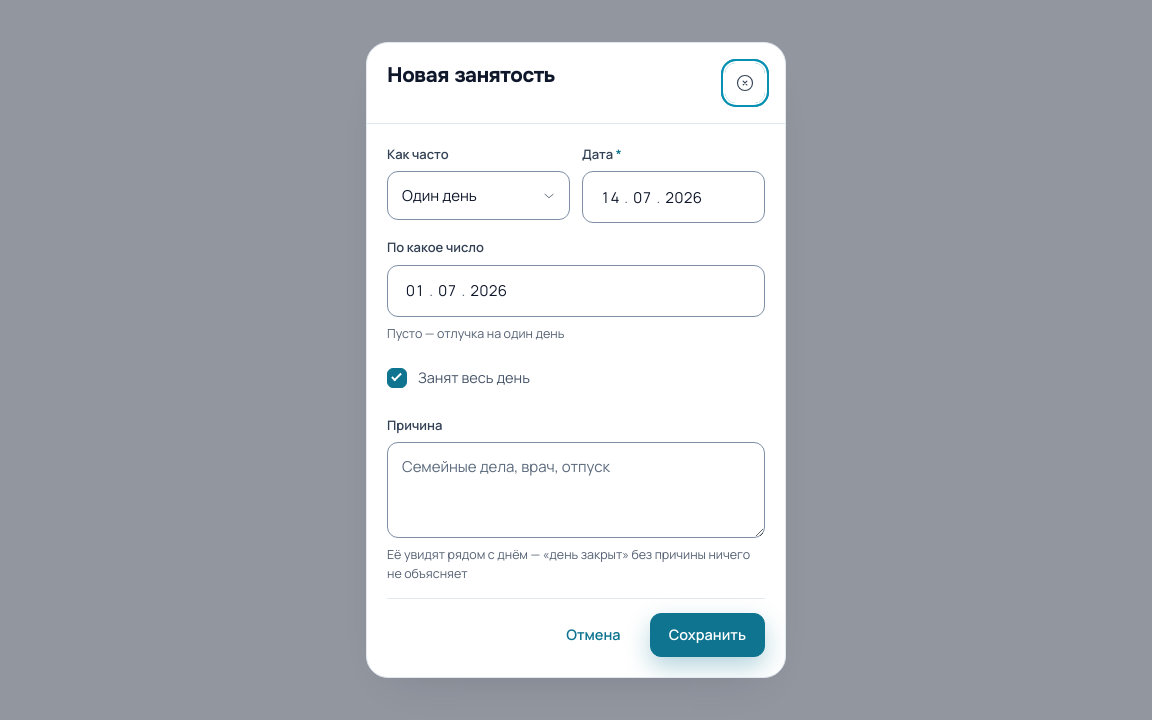
Test case: Окно занятости › конец раньше начала не отправляется и объясняет, что не так
Click the button "Сохранить" at (707,635), box x1=650 y1=613 x2=765 y2=657
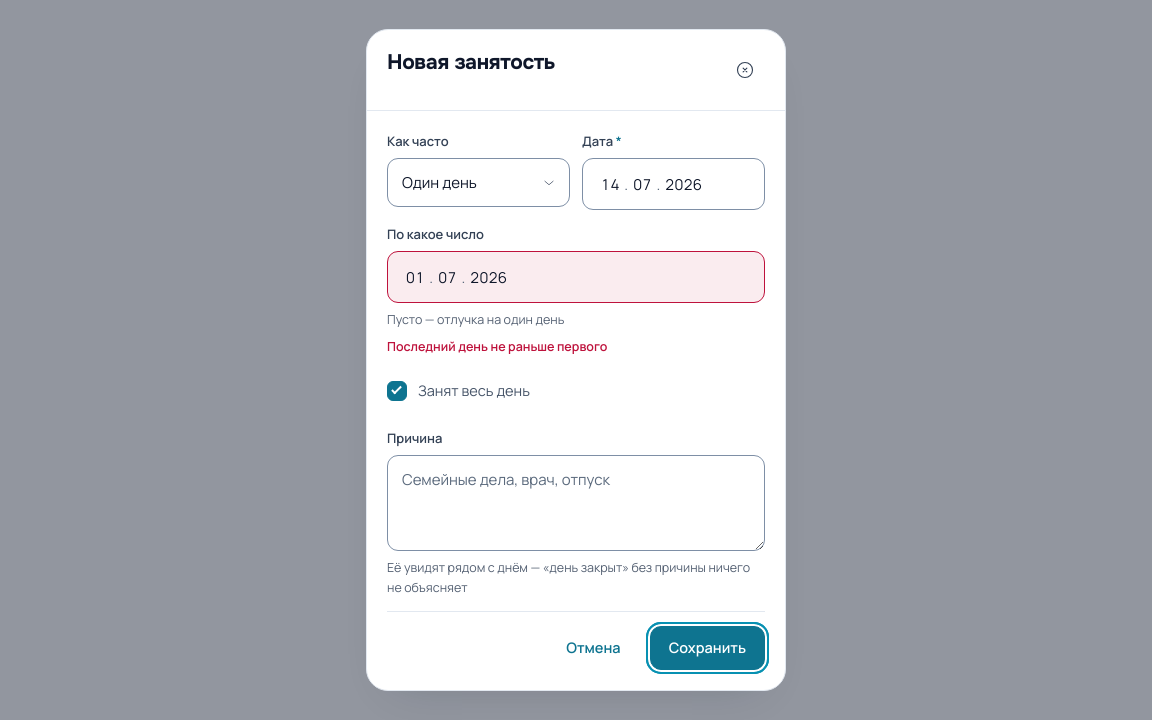
Now the text "Последний день не раньше первого" is shown, box x1=387 y1=338 x2=607 y2=355
